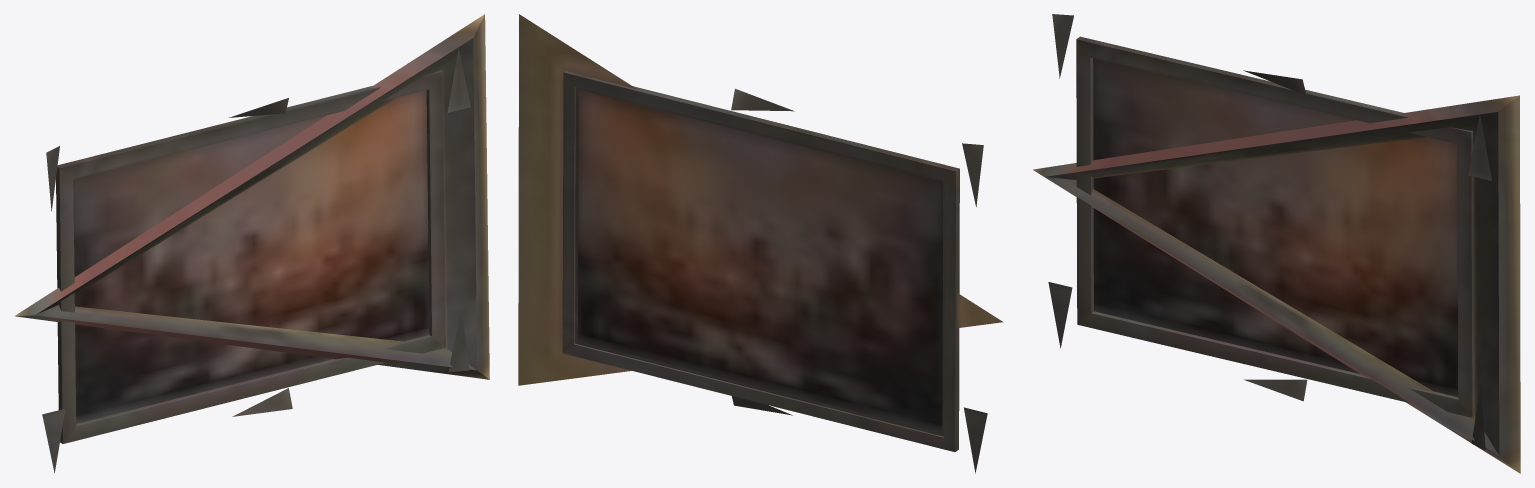
Rendered from painting-hall-6.lod1.glb.
3 renders of one model, left to right at view 1: azimuth 30°, elevation 25°; view 2: azimuth 150°, elevation 25°; view 3: azimuth 330°, elevation 25°, orthographic. The views are drawn at different scales.
Visible parts, largest first — view 1: painting-hall-6; view 2: painting-hall-6; view 3: painting-hall-6.
Boxes of the visible parts, x1=… form: painting-hall-6: x1=14, y1=14, x2=489, y2=472; painting-hall-6: x1=518, y1=14, x2=1003, y2=473; painting-hall-6: x1=1033, y1=14, x2=1520, y2=473.
Bounding box in the file's own units: 1.13 × 0.8267 × 0.0415.
Materials: 1 (1 with a texture image).
